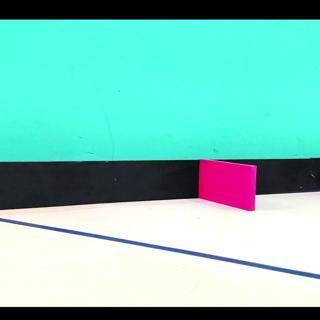xparking: (201, 168, 255, 212)
